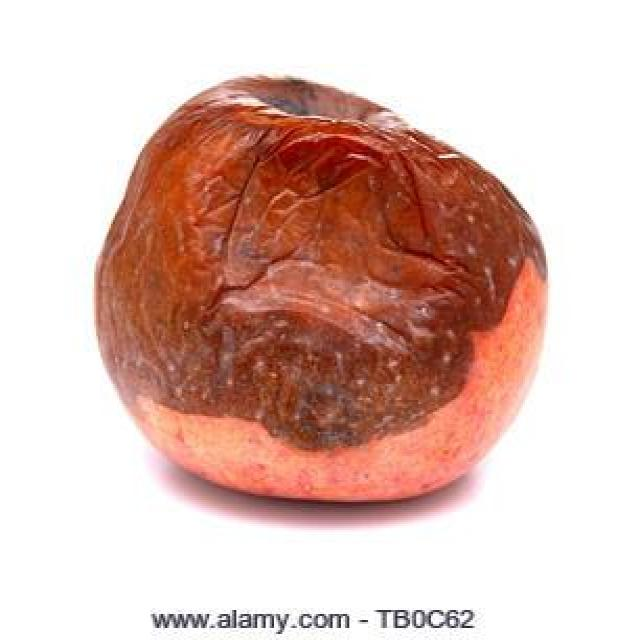Rotten: (88, 66, 552, 506)
